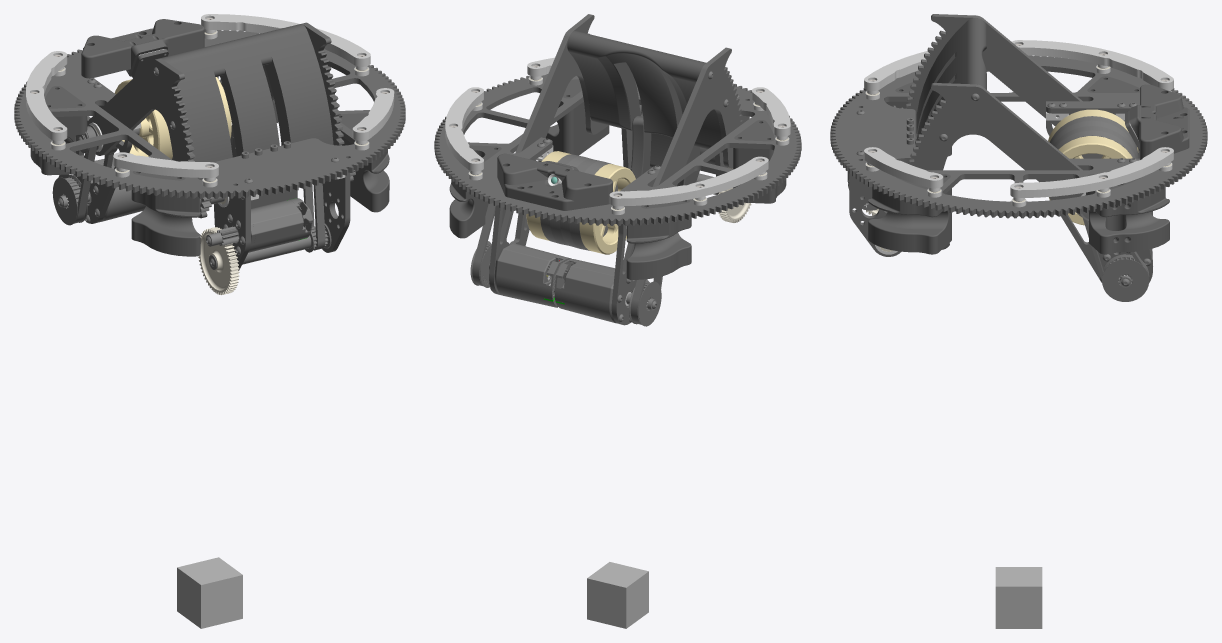
3 renders of one model, left to right at view 1: azimuth 30°, elevation 25°; view 2: azimuth 150°, elevation 25°; view 3: azimuth 270°, elevation 25°, orthographic. The views are drawn at different scales.
Parts seen in each view (by area): view 1: Part 10, Part 6, Spur gear (160 teeth) (×2), Part 17, Origin Cube, Part 26, Part 9 (×2), Kraken X44 Brushless Motor, Part 32-Mirrored, Part 32, Part 25, 54t Pocketed Aluminum Spur Gear (20 DP, 1/2" Hex Bore) (+10 smaller); view 2: Part 10, Part 6, Spur gear (160 teeth) (×2), Part 17, Origin Cube, Part 24, Kraken X60 Brushless Motor-Mirrored, Part 5 (×2), Kraken X60 Brushless Motor, Part 32, Part 25, Part 7 (+8 smaller); view 3: Part 10, Spur gear (160 teeth) (×2), Part 25, Part 23, Part 6, Part 17, Origin Cube, Part 32-Mirrored, Part 32, 4" Stealth Wheel (60A, 1/2" Hex Bore) (×2), 30t Custom HTD 5mm Pulley (0.375" Wide, SplineXS Insert)-Mir, Part 33-Mirrored (+6 smaller).
Boxes of the visible parts, left/top/right/bottom form: Part 10: left=14, top=30, right=405, bottom=198; Part 6: left=160, top=24, right=333, bottom=180; Spur gear (160 teeth) (×2): left=87, top=22, right=353, bottom=218; Part 17: left=81, top=19, right=204, bottom=78; Origin Cube: left=177, top=557, right=242, bottom=628; Part 26: left=131, top=171, right=200, bottom=256; Part 9 (×2): left=213, top=172, right=350, bottom=270; Kraken X44 Brushless Motor: left=233, top=198, right=312, bottom=252; Part 32-Mirrored: left=201, top=14, right=370, bottom=66; Part 32: left=26, top=51, right=67, bottom=140; Part 25: left=339, top=113, right=389, bottom=212; 54t Pocketed Aluminum Spur Gear (20 DP, 1/2" Hex Bore): left=198, top=227, right=239, bottom=294; Part 10: left=434, top=74, right=801, bottom=225; Part 6: left=567, top=30, right=722, bottom=152; Spur gear (160 teeth) (×2): left=515, top=14, right=743, bottom=186; Part 17: left=497, top=153, right=612, bottom=210; Origin Cube: left=587, top=562, right=648, bottom=628; Part 24: left=626, top=199, right=691, bottom=279; Kraken X60 Brushless Motor-Mirrored: left=494, top=243, right=563, bottom=307; Part 5 (×2): left=489, top=160, right=653, bottom=325; Kraken X60 Brushless Motor: left=555, top=260, right=648, bottom=323; Part 32: left=609, top=156, right=768, bottom=206; Part 25: left=546, top=79, right=609, bottom=155; Part 7: left=631, top=106, right=699, bottom=186; Part 10: left=830, top=55, right=1207, bottom=218; Spur gear (160 teeth) (×2): left=906, top=14, right=1083, bottom=217; Part 25: left=868, top=174, right=951, bottom=254; Part 23: left=1086, top=174, right=1169, bottom=254; Part 6: left=916, top=18, right=986, bottom=146; Part 17: left=1129, top=84, right=1189, bottom=159; Origin Cube: left=995, top=567, right=1042, bottom=628; Part 32-Mirrored: left=1010, top=147, right=1173, bottom=197; Part 32: left=1012, top=40, right=1173, bottom=90; 4" Stealth Wheel (60A, 1/2" Hex Bore) (×2): left=1050, top=116, right=1138, bottom=158; 30t Custom HTD 5mm Pulley (0.375" Wide, SplineXS Insert)-Mir: left=1102, top=254, right=1149, bottom=301; Part 33-Mirrored: left=864, top=147, right=943, bottom=188.
Size of the model in its own units: 0.4114 by 0.6852 by 0.4114.
